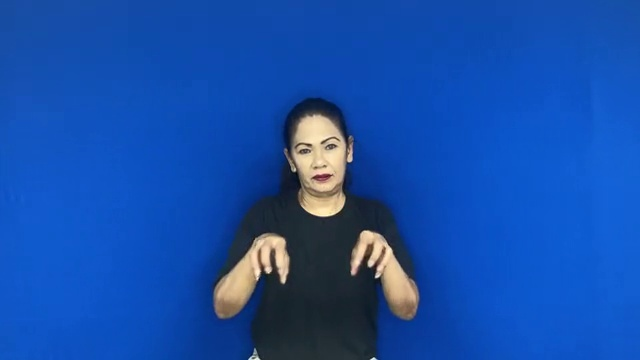egg: (244, 226, 398, 285)
